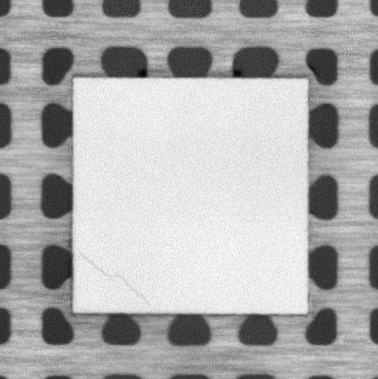DIE_CRACK: (78, 251, 149, 307)
